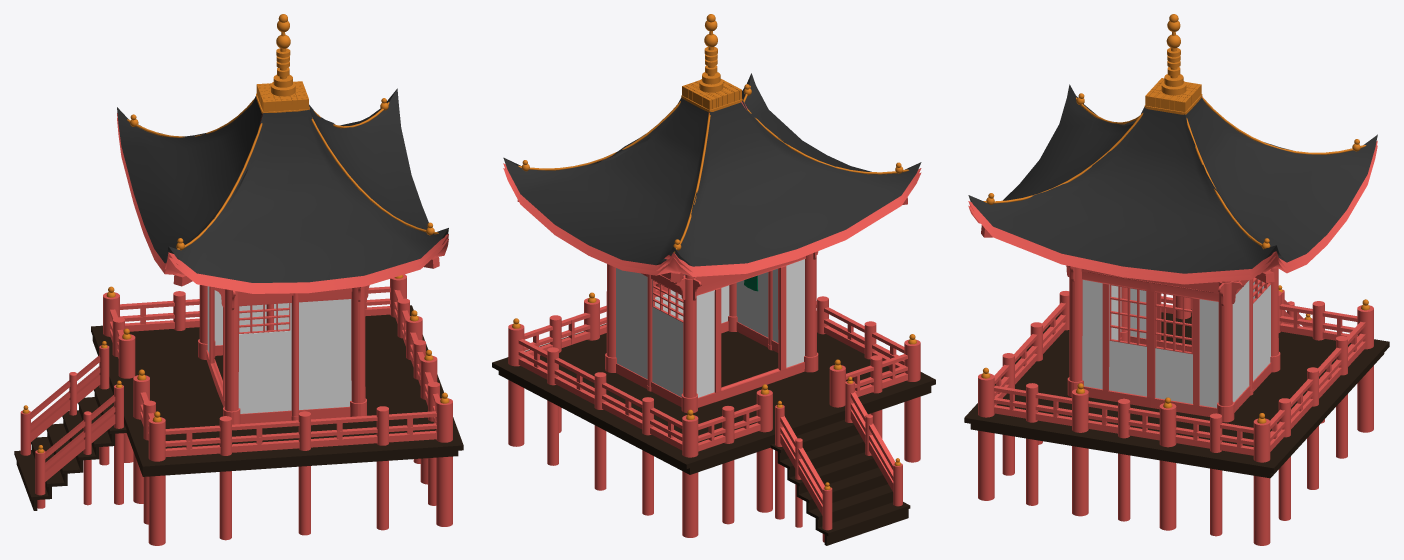
The model's file is tea_house.fbx.
The picture shows the model from 3 angles, left to right: view 1: azimuth 30°, elevation 25°; view 2: azimuth 150°, elevation 25°; view 3: azimuth 270°, elevation 25°; orthographic projection. The views are drawn at different scales.
Visible parts, largest first — view 1: ROOF, FLOOR, Object_8, Object_12, Object_7.003, Object_11, Object_9, Object_10, METAL; view 2: ROOF, FLOOR, Object_12, Object_7.003, Object_8, Object_11, Object_9, Object_10, METAL; view 3: ROOF, FLOOR, Object_12, Object_11, Object_7.003, Object_8, Object_9, METAL, Object_10, Object_13.
Part boxes in pixels (box(x1,y1,x2,y2)): ROOF: box(117, 88, 448, 282); FLOOR: box(14, 305, 463, 510); Object_8: box(30, 114, 439, 481); Object_12: box(114, 113, 452, 545); Object_7.003: box(207, 286, 351, 413); Object_11: box(20, 273, 439, 540); Object_9: box(20, 274, 452, 508); Object_10: box(117, 118, 448, 524); METAL: box(22, 14, 449, 453); ROOF: box(503, 73, 921, 266); FLOOR: box(492, 323, 935, 545); Object_12: box(503, 163, 921, 515); Object_7.003: box(616, 259, 804, 397); Object_8: box(518, 101, 907, 515); Object_11: box(517, 197, 907, 542); Object_9: box(508, 251, 920, 537); Object_10: box(503, 168, 921, 438); METAL: box(512, 14, 916, 489); ROOF: box(968, 84, 1377, 273); FLOOR: box(964, 309, 1389, 478); Object_12: box(968, 140, 1377, 521); Object_11: box(1002, 265, 1324, 536); Object_7.003: box(1082, 279, 1270, 407); Object_8: box(994, 97, 1365, 455); Object_9: box(978, 279, 1373, 545); METAL: box(981, 14, 1369, 423); Object_10: box(968, 145, 1377, 341); Object_13: box(1109, 269, 1271, 354).
Size of the model in its own units: 12202 by 13023 by 11102.
